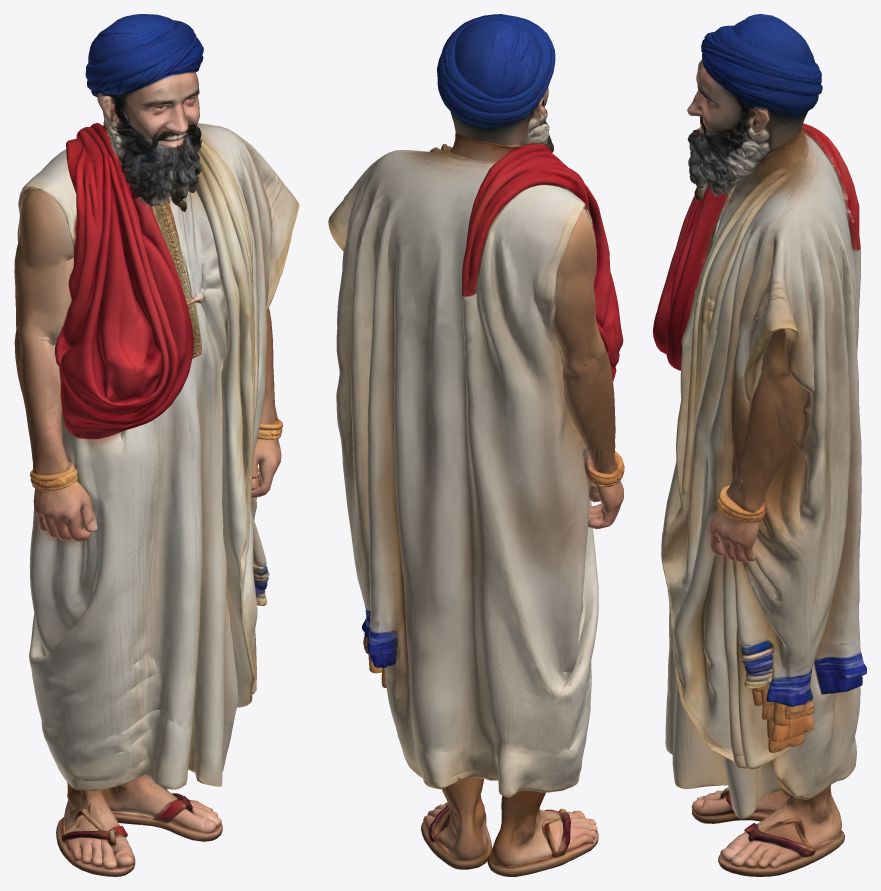
The model's file is crowd_textile_merchant_rodin_source.glb.
The picture shows the model from 3 angles, left to right: view 1: azimuth 30°, elevation 25°; view 2: azimuth 150°, elevation 25°; view 3: azimuth 270°, elevation 25°; orthographic projection.
Parts seen in each view (by area): view 1: model; view 2: model; view 3: model.
Part boxes in pixels (<box>): model: <box>14,14,299,876</box>; model: <box>328,14,624,876</box>; model: <box>653,14,866,876</box>.
Bounding box in the file's own units: 0.6724 × 1.9 × 0.4481.
Materials: 1 (1 with a texture image).
